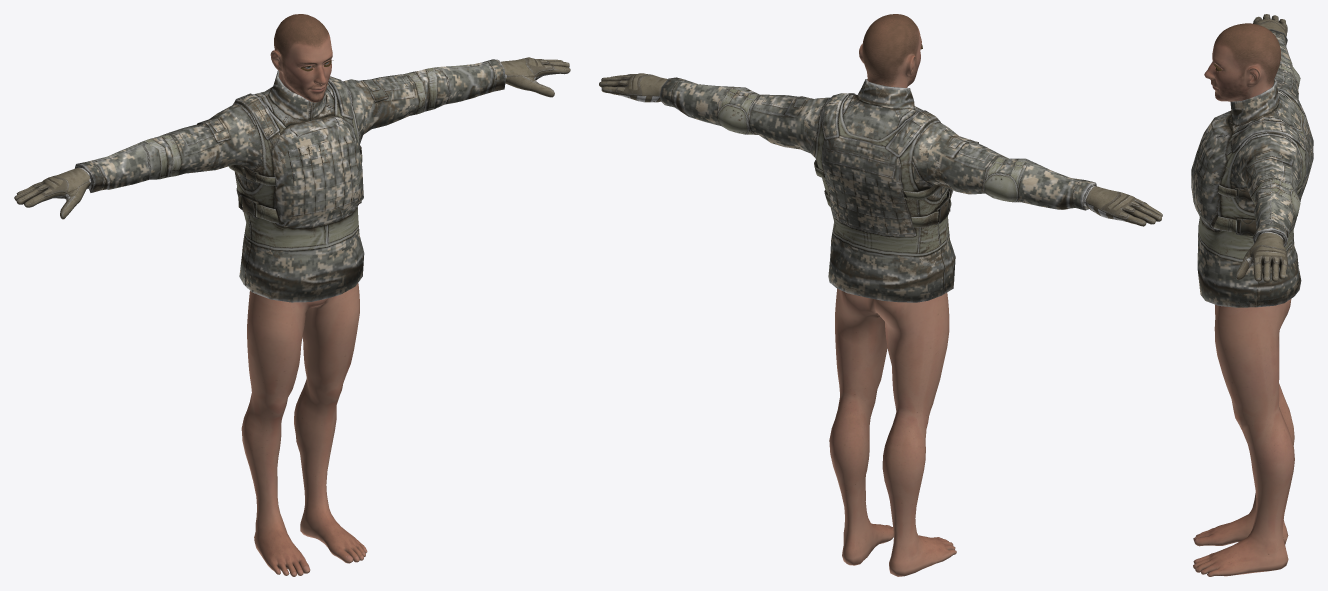
File: HandsDefault.obj
3 renders of one model, left to right at view 1: azimuth 30°, elevation 25°; view 2: azimuth 150°, elevation 25°; view 3: azimuth 270°, elevation 25°, orthographic.
Parts seen in each view (by area): view 1: Tops, Body, Gloves; view 2: Tops, Body, Gloves; view 3: Tops, Body, Gloves.
Part boxes in pixels (x1,y1,x2,y2): Tops: [74, 59, 505, 302]; Body: [241, 14, 367, 576]; Gloves: [14, 57, 570, 219]; Tops: [660, 77, 1096, 302]; Body: [829, 14, 956, 576]; Gloves: [599, 73, 1162, 226]; Tops: [1191, 29, 1313, 307]; Body: [1193, 23, 1294, 576]; Gloves: [1235, 14, 1287, 282].
Bounding box in the file's own units: 194 × 179 × 37.55.
Materials: 3 (3 with a texture image).
